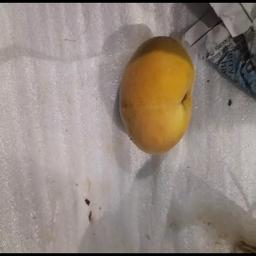Peach Semifresh: (116, 35, 197, 166)
